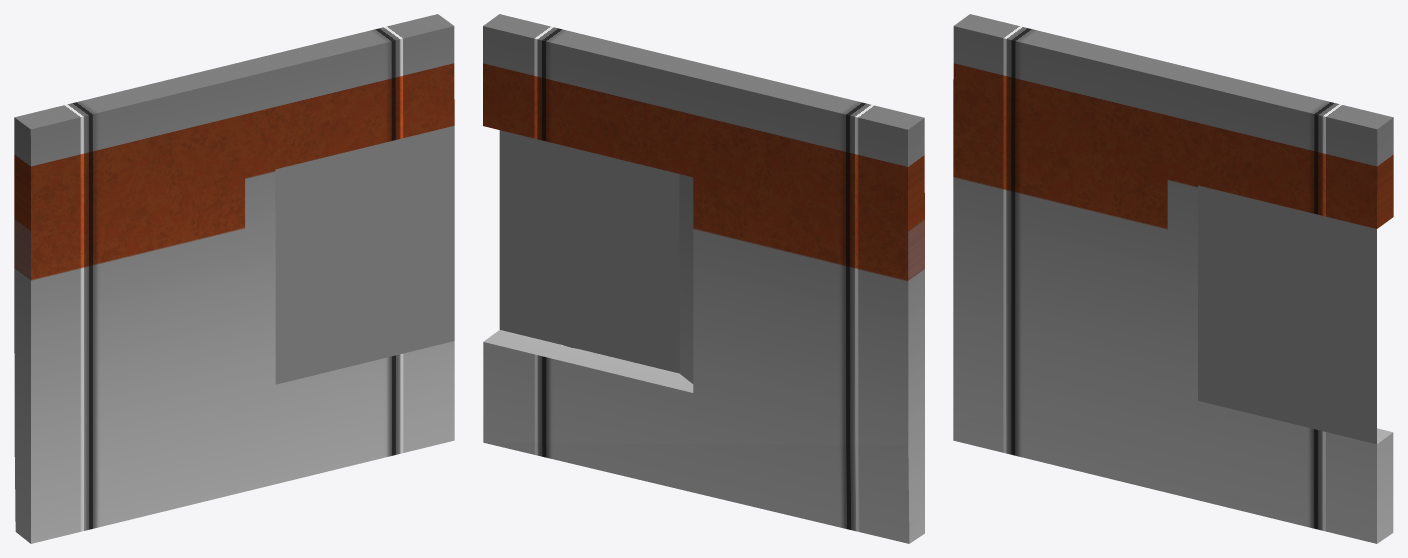
The model's file is Wall Left V2.fbx.
3 renders of one model, left to right at view 1: azimuth 30°, elevation 25°; view 2: azimuth 150°, elevation 25°; view 3: azimuth 330°, elevation 25°, orthographic.
Visible parts, largest first — view 1: Door_Door_Door_Door_Window_Side1_Window_Side1_polySurface3; view 2: Door_Door_Door_Door_Window_Side1_Window_Side1_polySurface3; view 3: Door_Door_Door_Door_Window_Side1_Window_Side1_polySurface3.
Part boxes in pixels (bbox=[...]): Door_Door_Door_Door_Window_Side1_Window_Side1_polySurface3: bbox=[14, 14, 454, 543]; Door_Door_Door_Door_Window_Side1_Window_Side1_polySurface3: bbox=[483, 14, 924, 543]; Door_Door_Door_Door_Window_Side1_Window_Side1_polySurface3: bbox=[953, 14, 1393, 543].
Size of the model in its own units: 1028 by 963 by 70.41.
